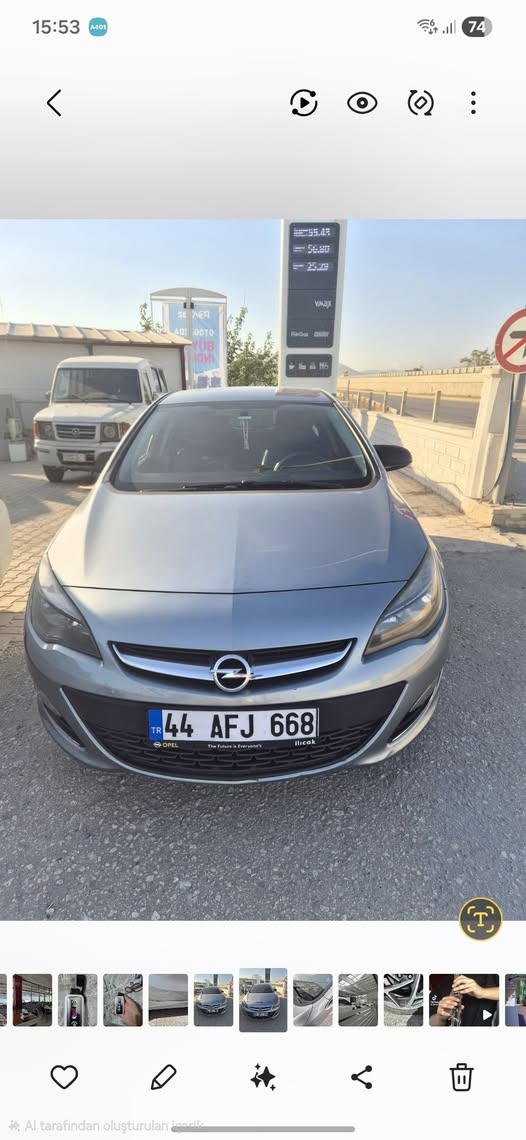plate: (152, 703, 323, 745)
